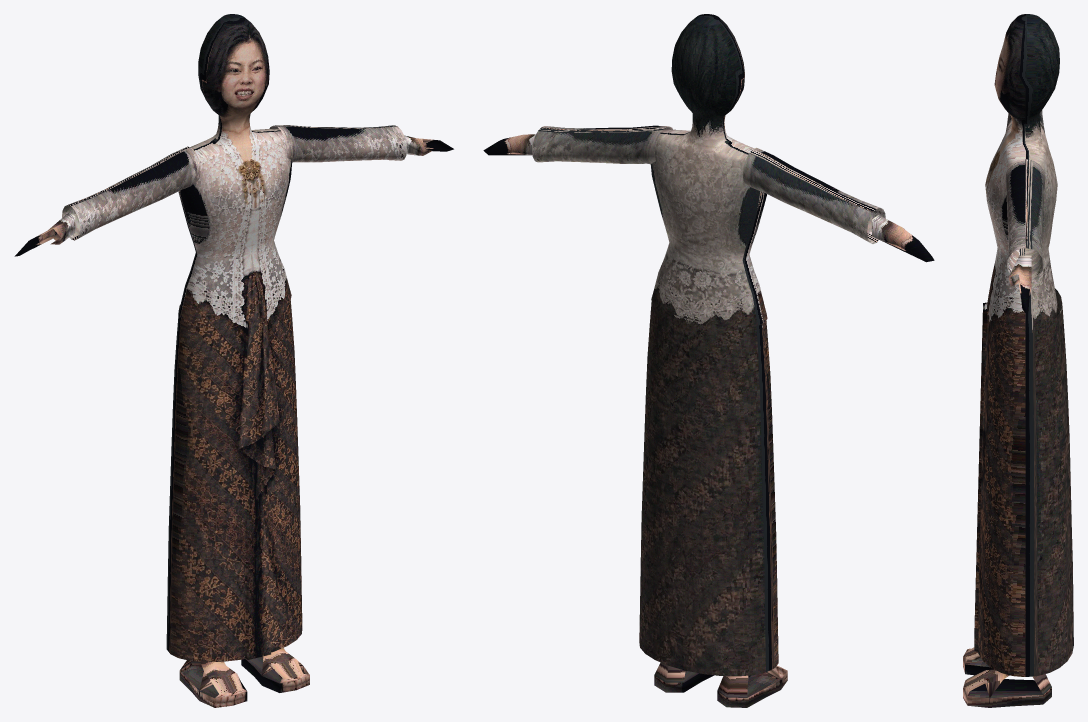
The model's file is nona_batavia.glb.
3 views of the same model, side by side, from view 1: azimuth 30°, elevation 25°; view 2: azimuth 150°, elevation 25°; view 3: azimuth 270°, elevation 25° (orthographic). The views are drawn at different scales.
Visible parts, largest first — view 1: PS2_Kebaya_Character; view 2: PS2_Kebaya_Character; view 3: PS2_Kebaya_Character.
Part boxes in pixels (x1,y1,x2,y2): PS2_Kebaya_Character: (14,14,453,707); PS2_Kebaya_Character: (483,14,934,707); PS2_Kebaya_Character: (963,14,1073,707).
Size of the model in its own units: 1.16 by 1.65 by 0.2492.
Materials: 1 (1 with a texture image).
